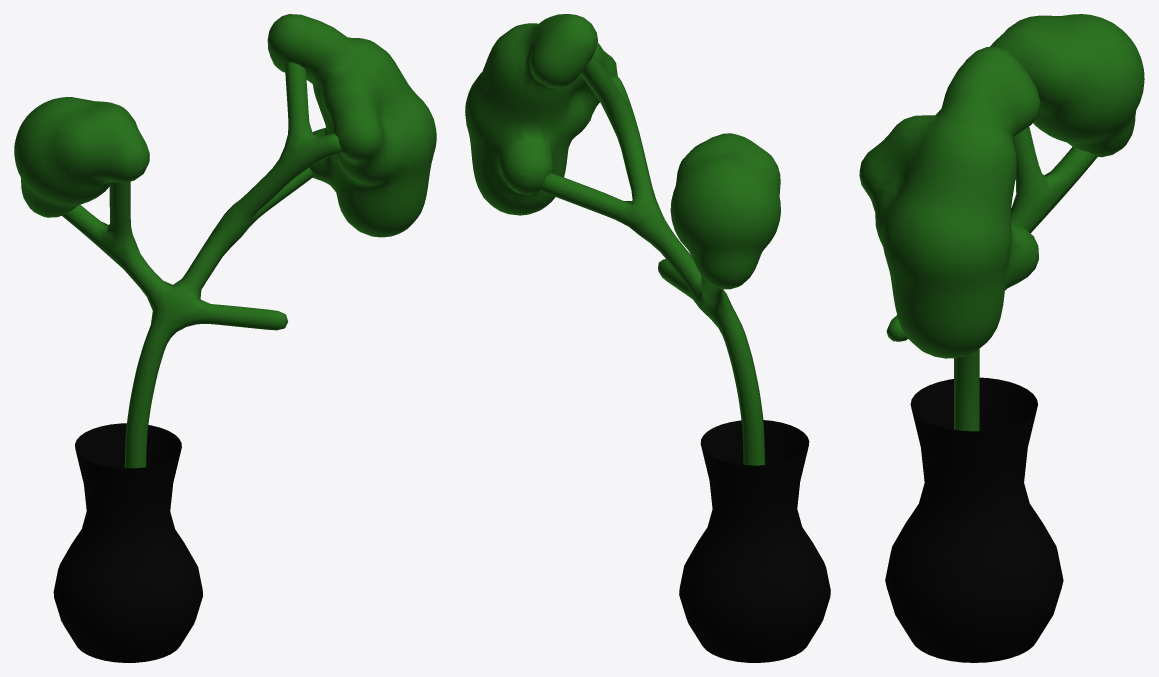
The model's file is LargeTree.glb.
The picture shows the model from 3 angles, left to right: view 1: azimuth 30°, elevation 25°; view 2: azimuth 150°, elevation 25°; view 3: azimuth 270°, elevation 25°; orthographic projection. The views are drawn at different scales.
Visible parts, largest first — view 1: LargeTree; view 2: LargeTree; view 3: LargeTree.
Boxes of the visible parts, bbox=[...] form: LargeTree: bbox=[14, 14, 436, 662]; LargeTree: bbox=[465, 14, 830, 662]; LargeTree: bbox=[859, 14, 1144, 662].
Bounding box in the file's own units: 3.04 × 4.73 × 1.78.
